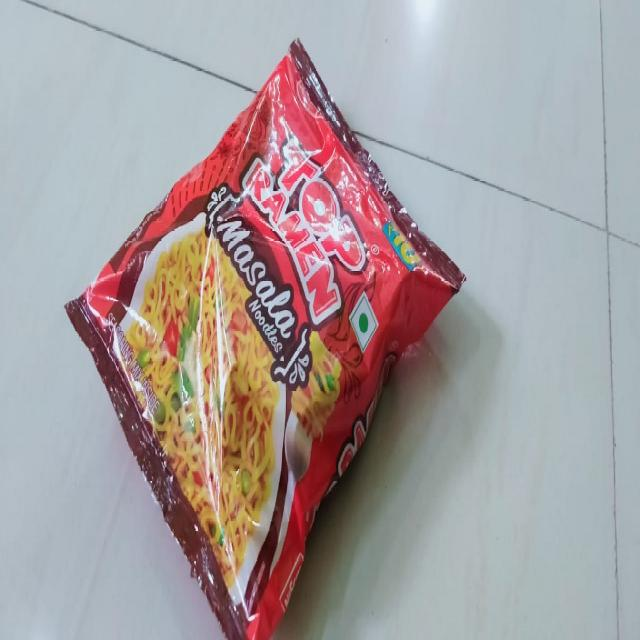maggi: (61, 37, 466, 640)
